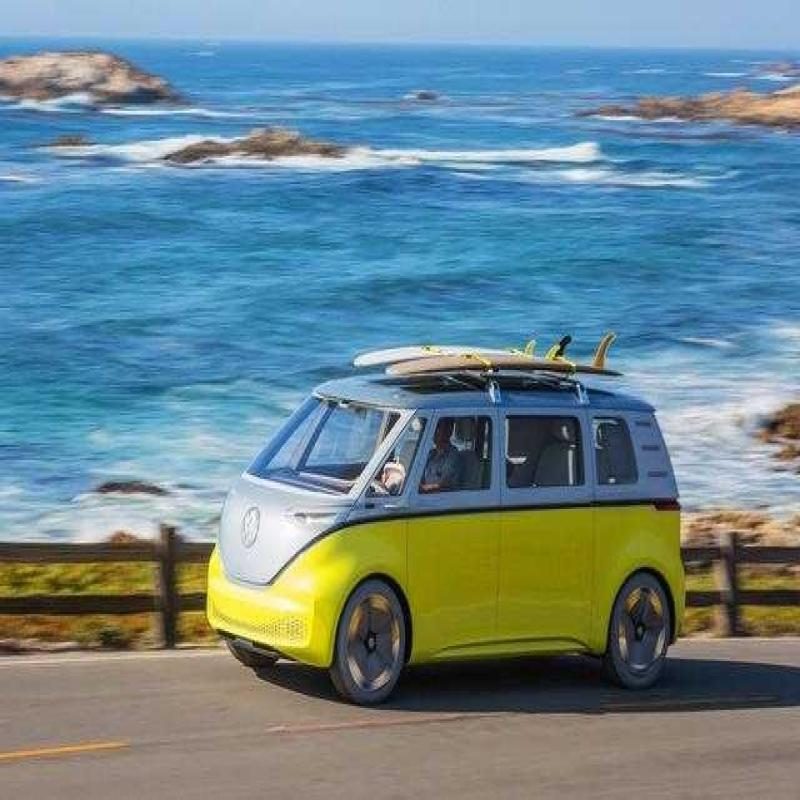bus: (232, 323, 695, 728)
